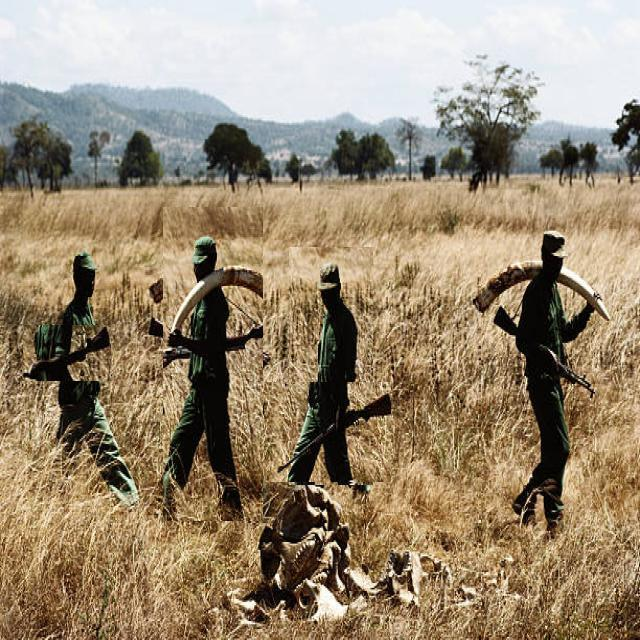animal: (190, 476, 463, 631)
ranger: (463, 186, 616, 545), (150, 221, 288, 530), (302, 216, 402, 522), (28, 246, 133, 501)
weapon: (490, 297, 561, 437), (324, 368, 394, 501)
